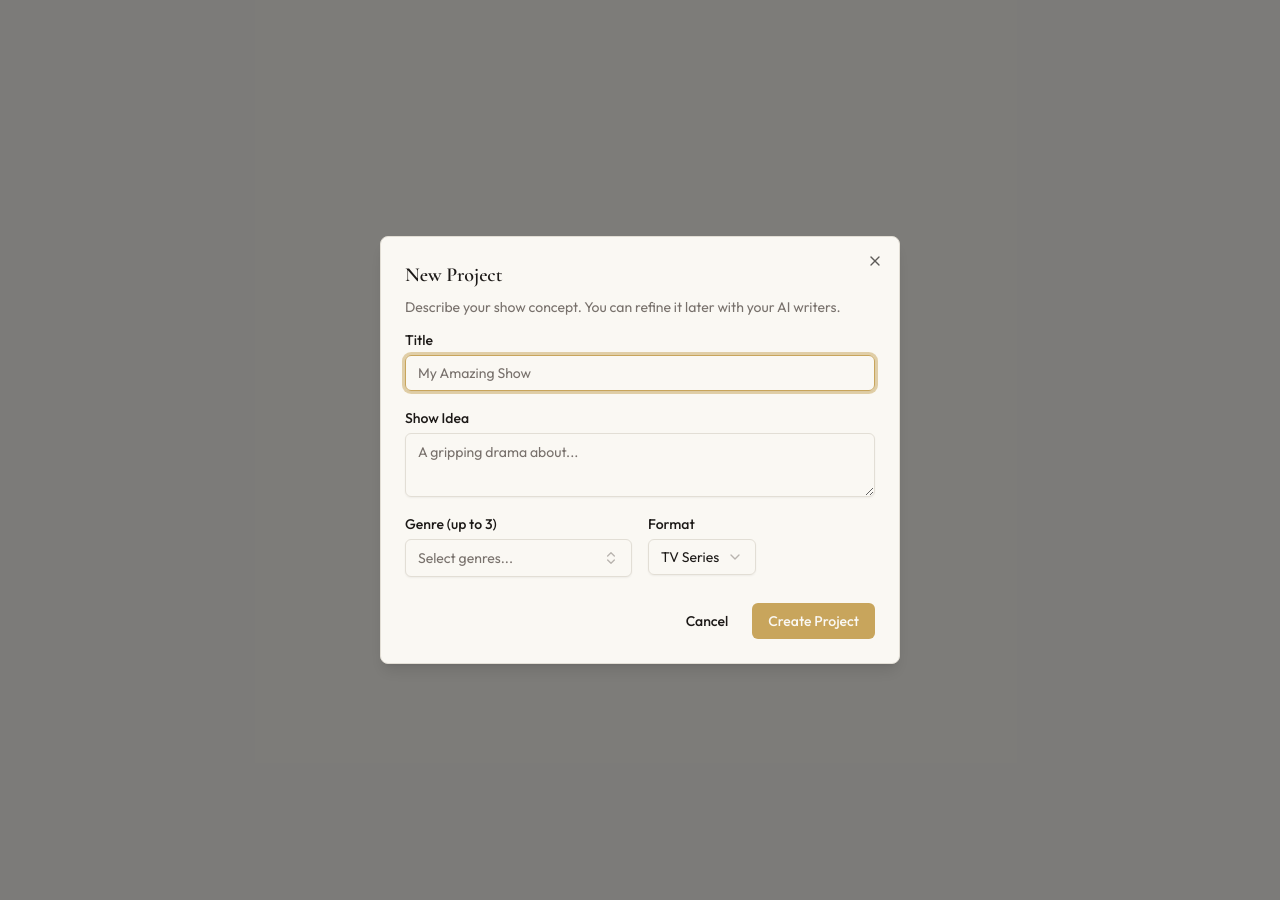
Test: CreateProjectDialog › shows validation errors on empty submit
Click the button "Create Project" at (814, 621), box [752,603,875,639]
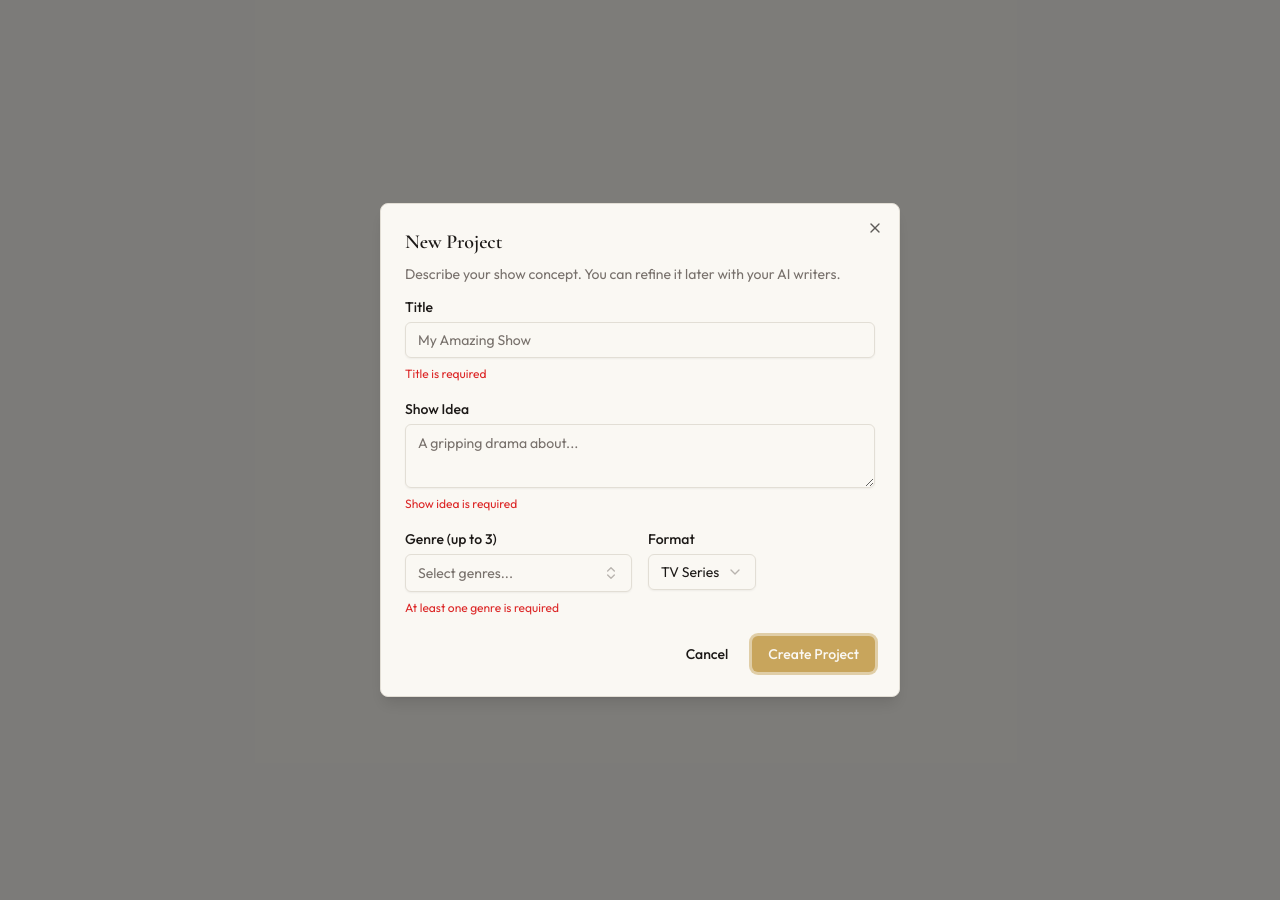
Now the text "Title is required" is shown, box [405,366,486,381]
